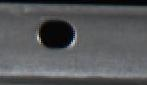holes: (34, 18, 77, 50)
